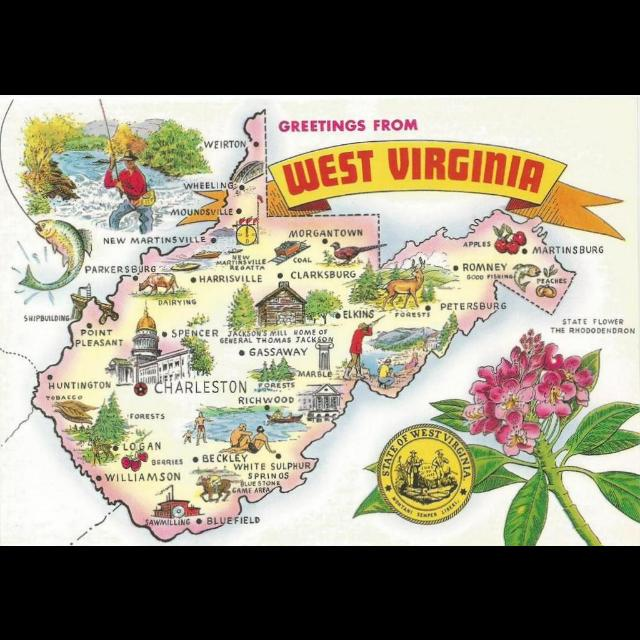Flower: (462, 328, 594, 456), (529, 366, 579, 424)
